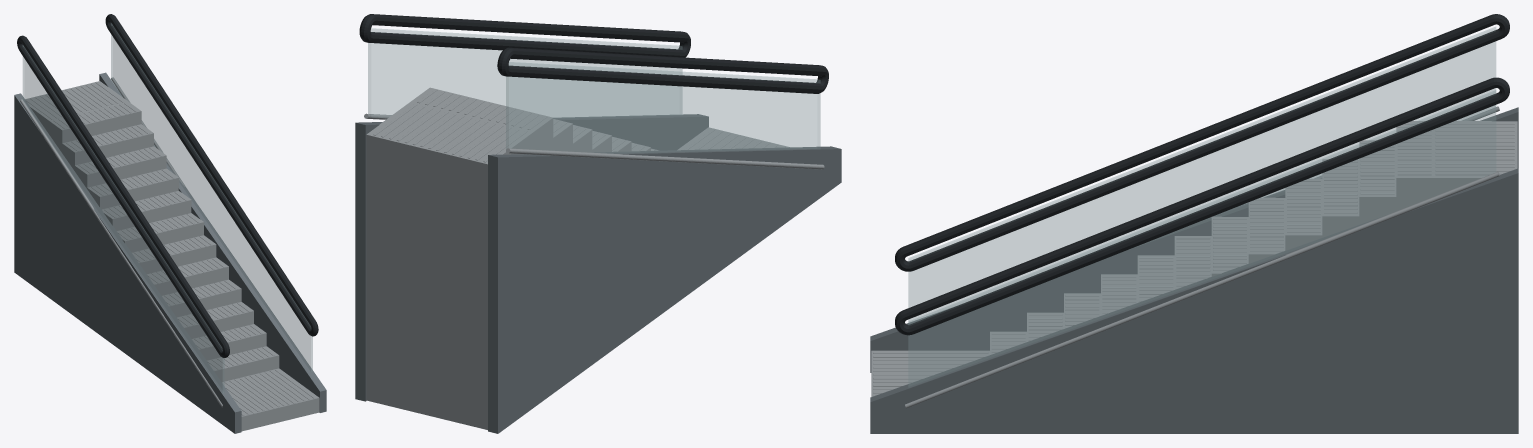
Rendered from full.glb.
3 views of the same model, side by side, from view 1: azimuth 30°, elevation 25°; view 2: azimuth 150°, elevation 25°; view 3: azimuth 270°, elevation 25° (orthographic). The views are drawn at different scales.
Parts seen in each view (by area): view 1: Continuous skirt -1, Closed stepped module, Clear balustrade -1, Clear balustrade 1, Continuous rounded handrail 1, Continuous rounded handrail -1, Continuous skirt 1, Lower reflective trim -1; view 2: Continuous skirt -1, Closed stepped module, Clear balustrade -1, Clear balustrade 1, Continuous rounded handrail -1, Continuous rounded handrail 1, Continuous skirt 1, Lower reflective trim -1; view 3: Continuous skirt 1, Clear balustrade 1, Clear balustrade -1, Closed stepped module, Continuous rounded handrail 1, Continuous rounded handrail -1, Continuous skirt -1, Lower reflective trim 1.
Part boxes in pixels (box(x1,y1,x2,y2)): Continuous skirt -1: box(14, 93, 241, 433); Closed stepped module: box(25, 81, 319, 431); Clear balustrade -1: box(23, 45, 224, 392); Clear balustrade 1: box(111, 23, 312, 371); Continuous rounded handrail 1: box(105, 14, 318, 336); Continuous rounded handrail -1: box(17, 35, 229, 357); Continuous skirt 1: box(99, 72, 326, 412); Lower reflective trim -1: box(20, 99, 222, 407); Continuous skirt -1: box(488, 146, 841, 433); Closed stepped module: box(366, 87, 789, 429); Clear balustrade -1: box(506, 62, 820, 153); Clear balustrade 1: box(368, 28, 682, 117); Continuous rounded handrail -1: box(497, 47, 828, 93); Continuous rounded handrail 1: box(359, 14, 690, 57); Continuous skirt 1: box(355, 114, 708, 401); Lower reflective trim -1: box(506, 148, 824, 169); Continuous skirt 1: box(870, 168, 1518, 433); Clear balustrade 1: box(908, 90, 1495, 387); Clear balustrade -1: box(908, 27, 1495, 322); Closed stepped module: box(871, 121, 1517, 396); Continuous rounded handrail 1: box(895, 77, 1509, 335); Continuous rounded handrail -1: box(895, 14, 1509, 271); Continuous skirt -1: box(870, 107, 1518, 372); Lower reflective trim 1: box(905, 172, 1499, 408).
Bounding box in the file's own units: 1.22 × 2.97 × 4.92.
